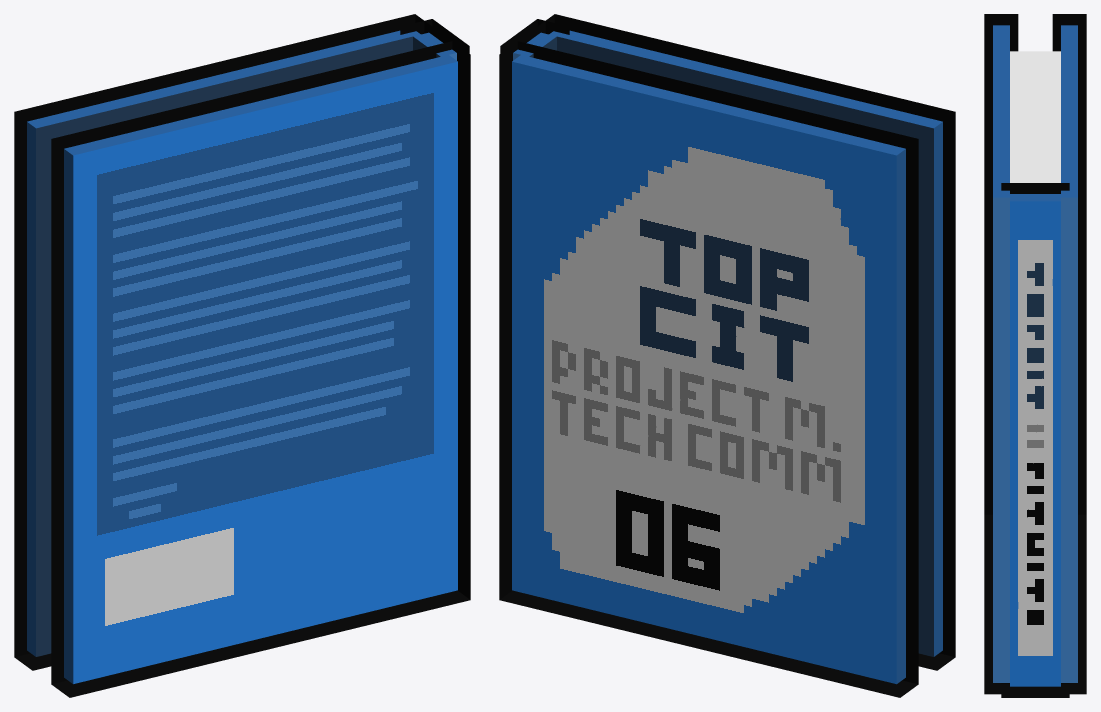
File: minibook_6.gltf
3 views of the same model, side by side, from view 1: azimuth 30°, elevation 25°; view 2: azimuth 150°, elevation 25°; view 3: azimuth 270°, elevation 25° (orthographic). The views are drawn at different scales.
Parts seen in each view (by area): view 1: cube (×2), cube_outline (×3); view 2: cube (×2), cube_outline (×3); view 3: cube (×4), cube_outline (×3).
Part boxes in pixels (bbox=[...]): cube (×2): bbox=[27, 30, 457, 684]; cube_outline (×3): bbox=[14, 14, 470, 697]; cube (×2): bbox=[512, 30, 942, 684]; cube_outline (×3): bbox=[499, 14, 955, 697]; cube (×4): bbox=[993, 25, 1077, 686]; cube_outline (×3): bbox=[984, 14, 1086, 697].
Size of the model in its own units: 3.19 by 4.06 by 0.75.
Materials: 2 (2 with a texture image).
